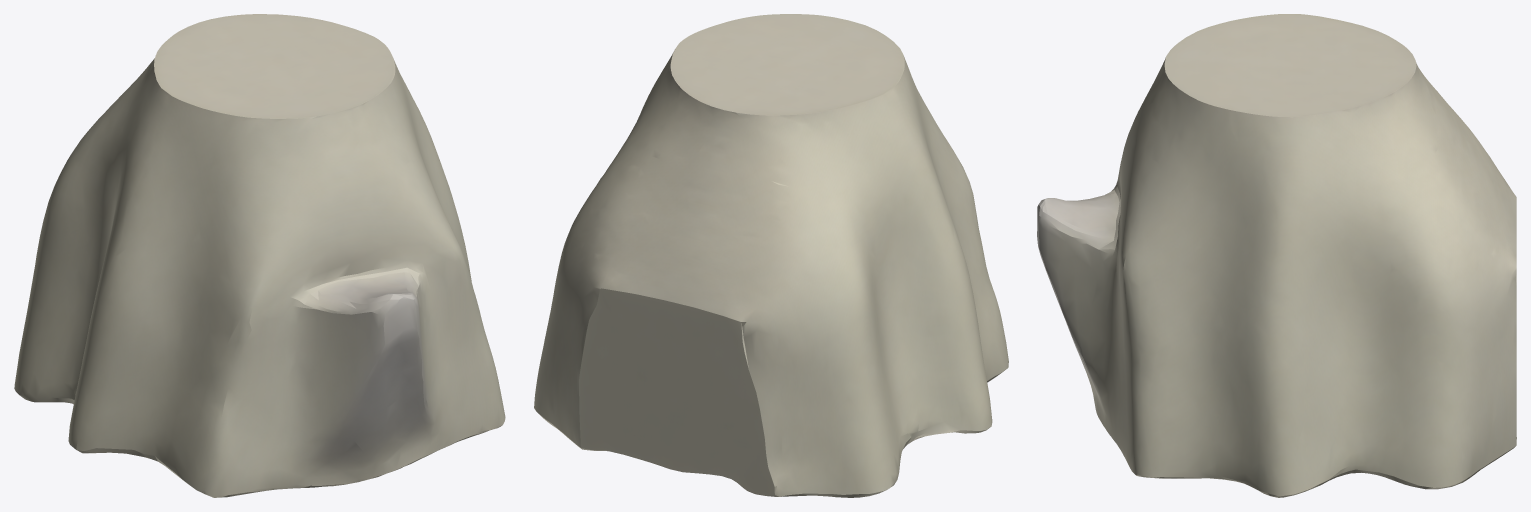
The model's file is curtain.glb.
3 views of the same model, side by side, from view 1: azimuth 30°, elevation 25°; view 2: azimuth 150°, elevation 25°; view 3: azimuth 270°, elevation 25° (orthographic). The views are drawn at different scales.
Visible parts, largest first — view 1: model; view 2: model; view 3: model.
Boxes of the visible parts, x1=… form: model: x1=14, y1=14, x2=505, y2=497; model: x1=534, y1=14, x2=1008, y2=497; model: x1=1037, y1=14, x2=1516, y2=497.
Bounding box in the file's own units: 1.83 × 1.48 × 1.89.
1 material, 1 textured.
